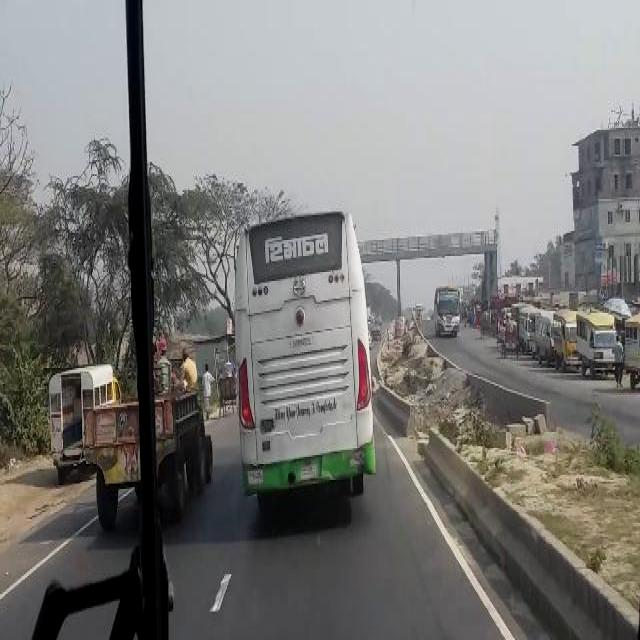BUS: (235, 190, 371, 532), (434, 280, 460, 337)
